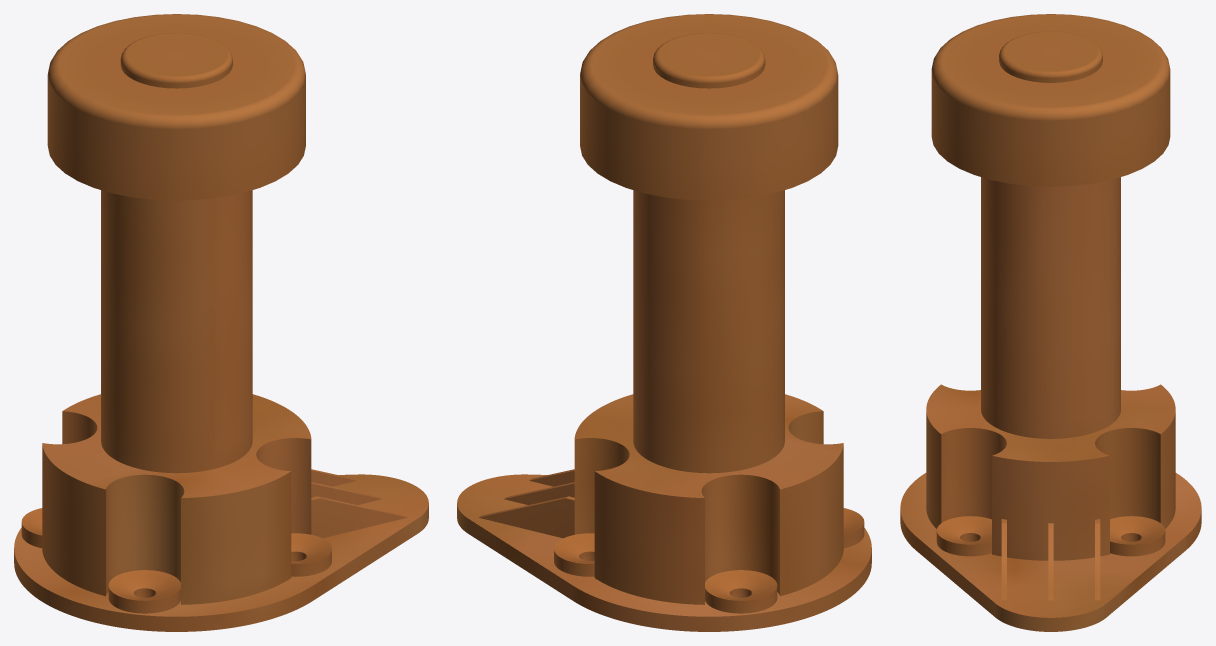
File: opora_100_mm_1791569369133.glb
3 renders of one model, left to right at view 1: azimuth 30°, elevation 25°; view 2: azimuth 150°, elevation 25°; view 3: azimuth 270°, elevation 25°, orthographic. The views are drawn at different scales.
Visible parts, largest first — view 1: Опора 100 мм; view 2: Опора 100 мм; view 3: Опора 100 мм.
Boxes of the visible parts, <box> form: Опора 100 мм: <box>14,14,428,631</box>; Опора 100 мм: <box>457,14,871,631</box>; Опора 100 мм: <box>900,14,1201,631</box>.
Bounding box in the file's own units: 0.079 × 0.1 × 0.058.
Materials: 1 (1 with a texture image).
